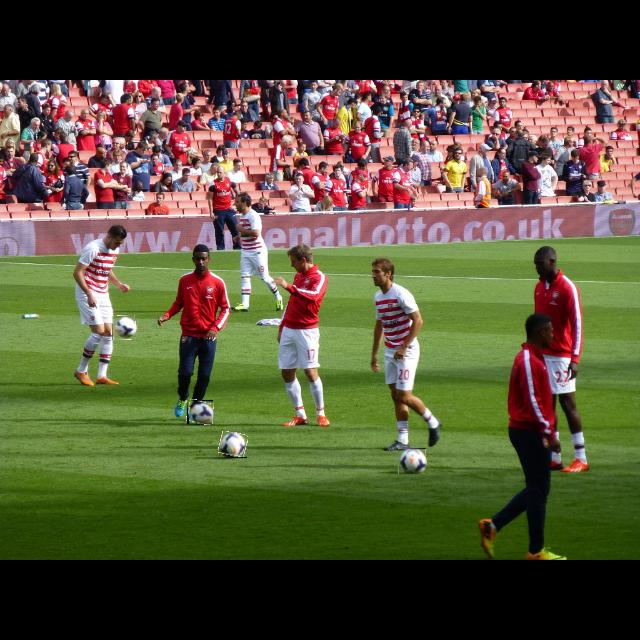Football: (219, 432, 247, 458), (398, 448, 426, 474), (187, 400, 213, 424), (112, 316, 136, 340)
